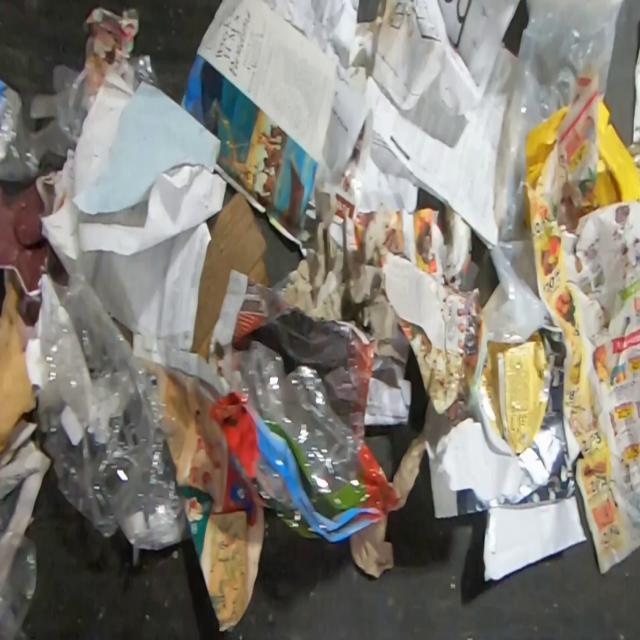cardboard: (191, 189, 271, 361)
rigid_plastic: (35, 271, 186, 568), (592, 99, 640, 207), (526, 105, 569, 190)
soft_plastic: (480, 0, 625, 345), (211, 338, 400, 545), (0, 4, 161, 183), (468, 319, 554, 457), (0, 529, 38, 640)
